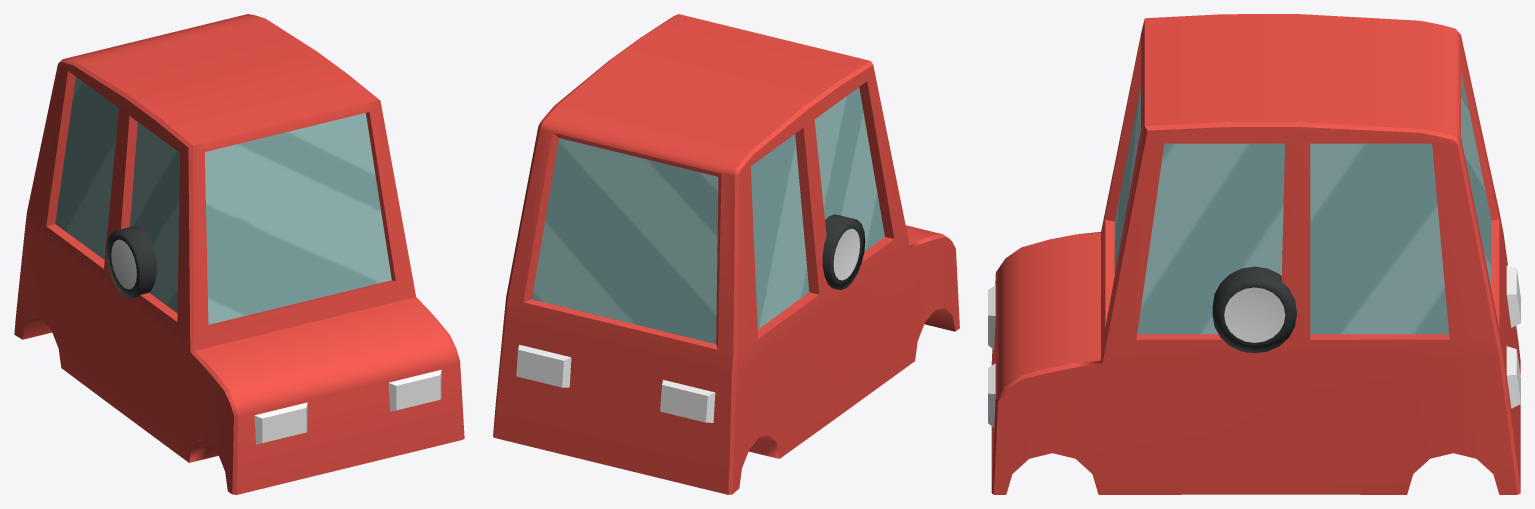
The model's file is car_3_R.fbx.
The picture shows the model from 3 angles, left to right: view 1: azimuth 30°, elevation 25°; view 2: azimuth 150°, elevation 25°; view 3: azimuth 270°, elevation 25°; orthographic projection. The views are drawn at different scales.
Visible parts, largest first — view 1: car_3_chasis_R, car_3_back_wheel_R, car_3_right_wheel_R; view 2: car_3_chasis_R, car_3_back_wheel_R, car_3_right_wheel_R; view 3: car_3_chasis_R, car_3_left_wheel_R.
Part boxes in pixels (box(x1,y1,x2,y2)): car_3_chasis_R: box(14, 14, 464, 494); car_3_back_wheel_R: box(106, 226, 156, 298); car_3_right_wheel_R: box(116, 226, 156, 296); car_3_chasis_R: box(493, 14, 959, 494); car_3_back_wheel_R: box(822, 214, 865, 290); car_3_right_wheel_R: box(822, 215, 849, 288); car_3_chasis_R: box(988, 14, 1520, 494); car_3_left_wheel_R: box(1212, 266, 1296, 353).
Size of the model in its own units: 92.39 by 115 by 154.
